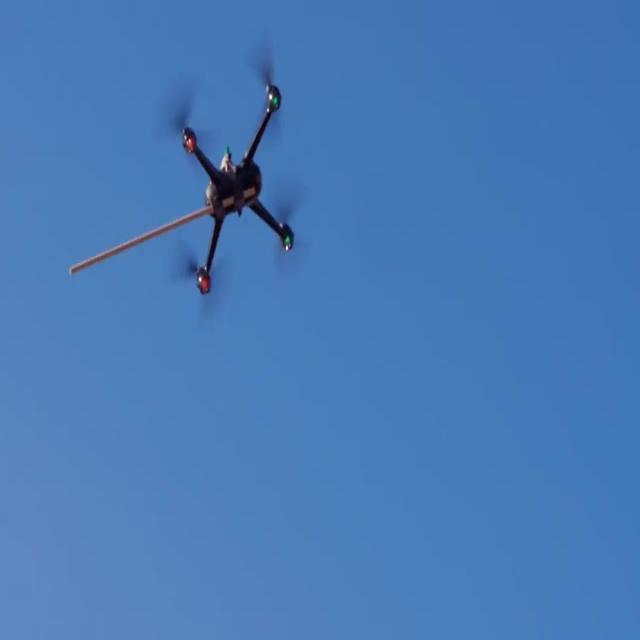drone: (180, 80, 294, 296)
